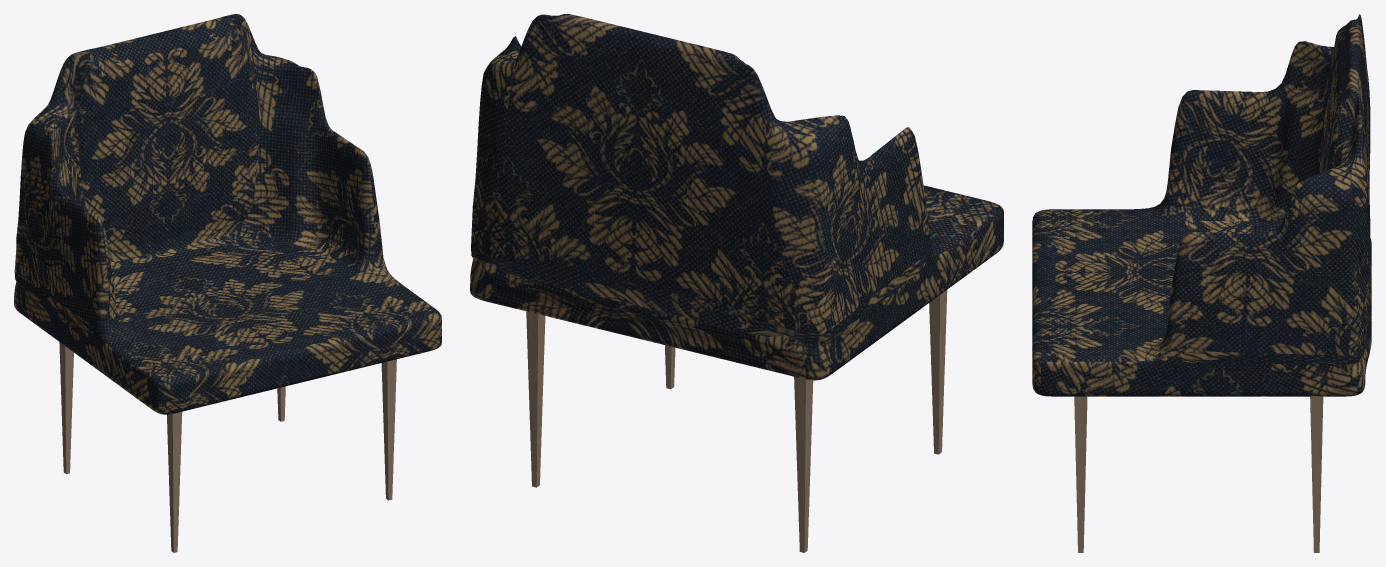
The model's file is UglyDesignChair.fbx.
3 renders of one model, left to right at view 1: azimuth 30°, elevation 25°; view 2: azimuth 150°, elevation 25°; view 3: azimuth 270°, elevation 25°, orthographic. The views are drawn at different scales.
Parts seen in each view (by area): view 1: Box001; view 2: Box001; view 3: Box001.
Part boxes in pixels (x1=…): Box001: x1=14, y1=14, x2=441, y2=552; Box001: x1=470, y1=14, x2=1003, y2=552; Box001: x1=1032, y1=14, x2=1371, y2=552.
Size of the model in its own units: 62 by 82.88 by 58.09.
